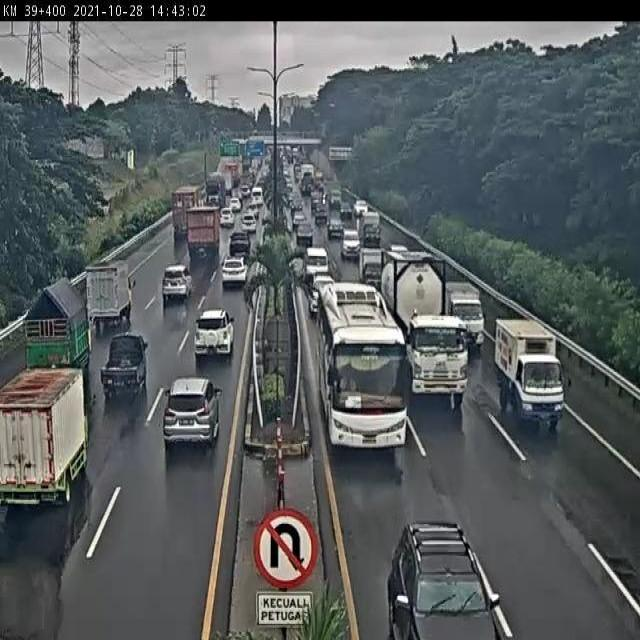big bus: (317, 281, 408, 456)
